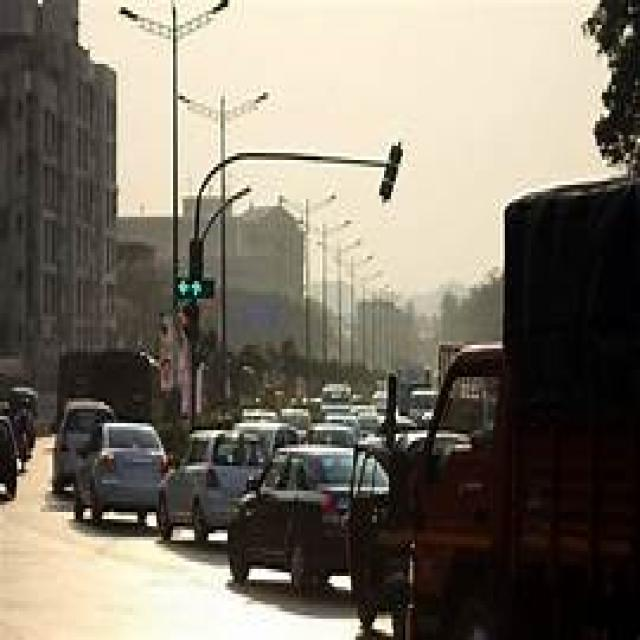Auto: (349, 450, 416, 638)
Car: (53, 399, 352, 593)
Truck: (415, 179, 640, 638)
